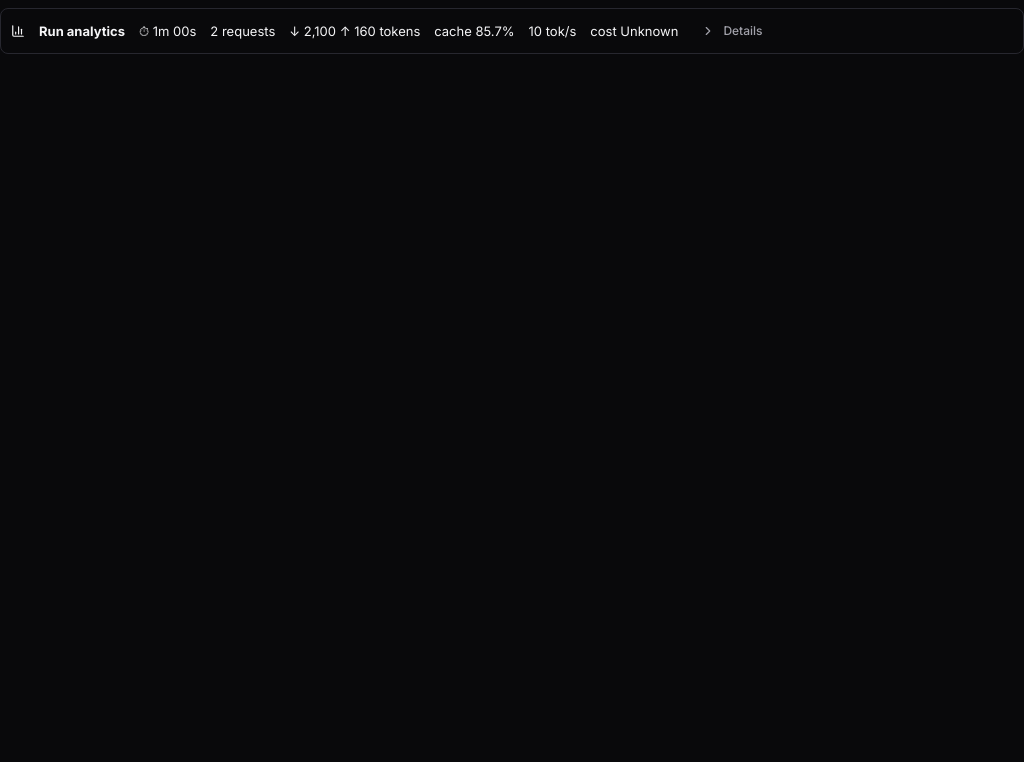
Run Analytics (M4.6) › the detail view separates the exclusive time categories from the overlapping measures
Click the button "Details" at (732, 31), box left=692, top=17, right=772, bottom=45
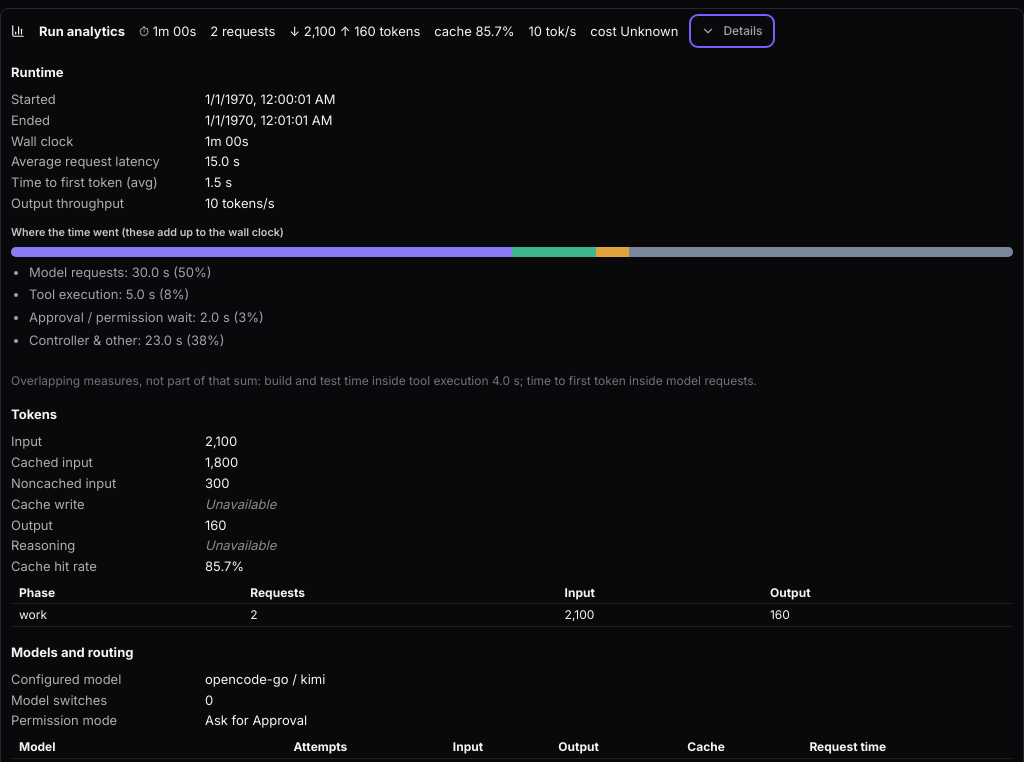
Now the heading "Where the time went (these add up to the wall clock)" is shown, box left=11, top=226, right=284, bottom=239
Now the list item "Model requests: 30.0 s (50%)" is shown, box left=29, top=264, right=212, bottom=280
Now the list item "Controller & other: 23.0 s (38%)" is shown, box left=29, top=332, right=225, bottom=348
